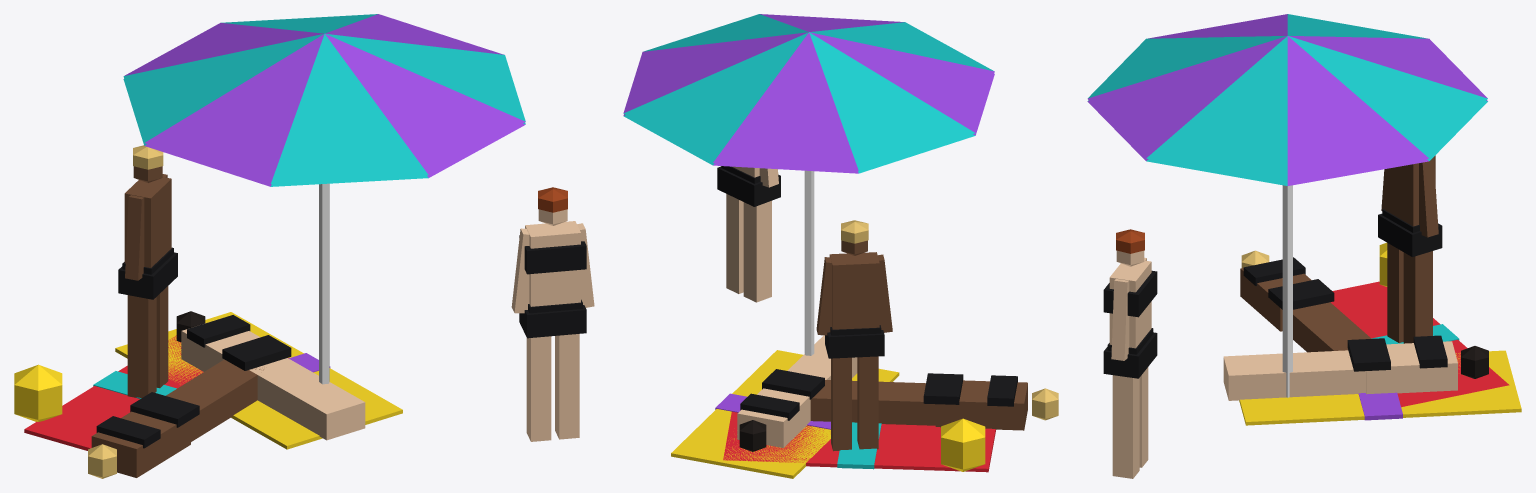
The model's file is nudista_grupo_3.obj.
3 renders of one model, left to right at view 1: azimuth 30°, elevation 25°; view 2: azimuth 150°, elevation 25°; view 3: azimuth 270°, elevation 25°, orthographic. The views are drawn at different scales.
Parts seen in each view (by area): view 1: nudista_grupo_3; view 2: nudista_grupo_3; view 3: nudista_grupo_3.
Boxes of the visible parts, x1,y1,x2,y2 form: nudista_grupo_3: (14,14,594,478); nudista_grupo_3: (623,14,1058,478); nudista_grupo_3: (1087,14,1521,478).
Bounding box in the file's own units: 3.14 × 2.6 × 2.82.
